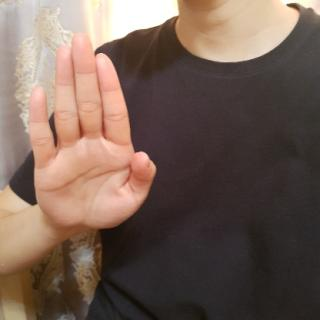SEEN: (23, 25, 158, 244)
